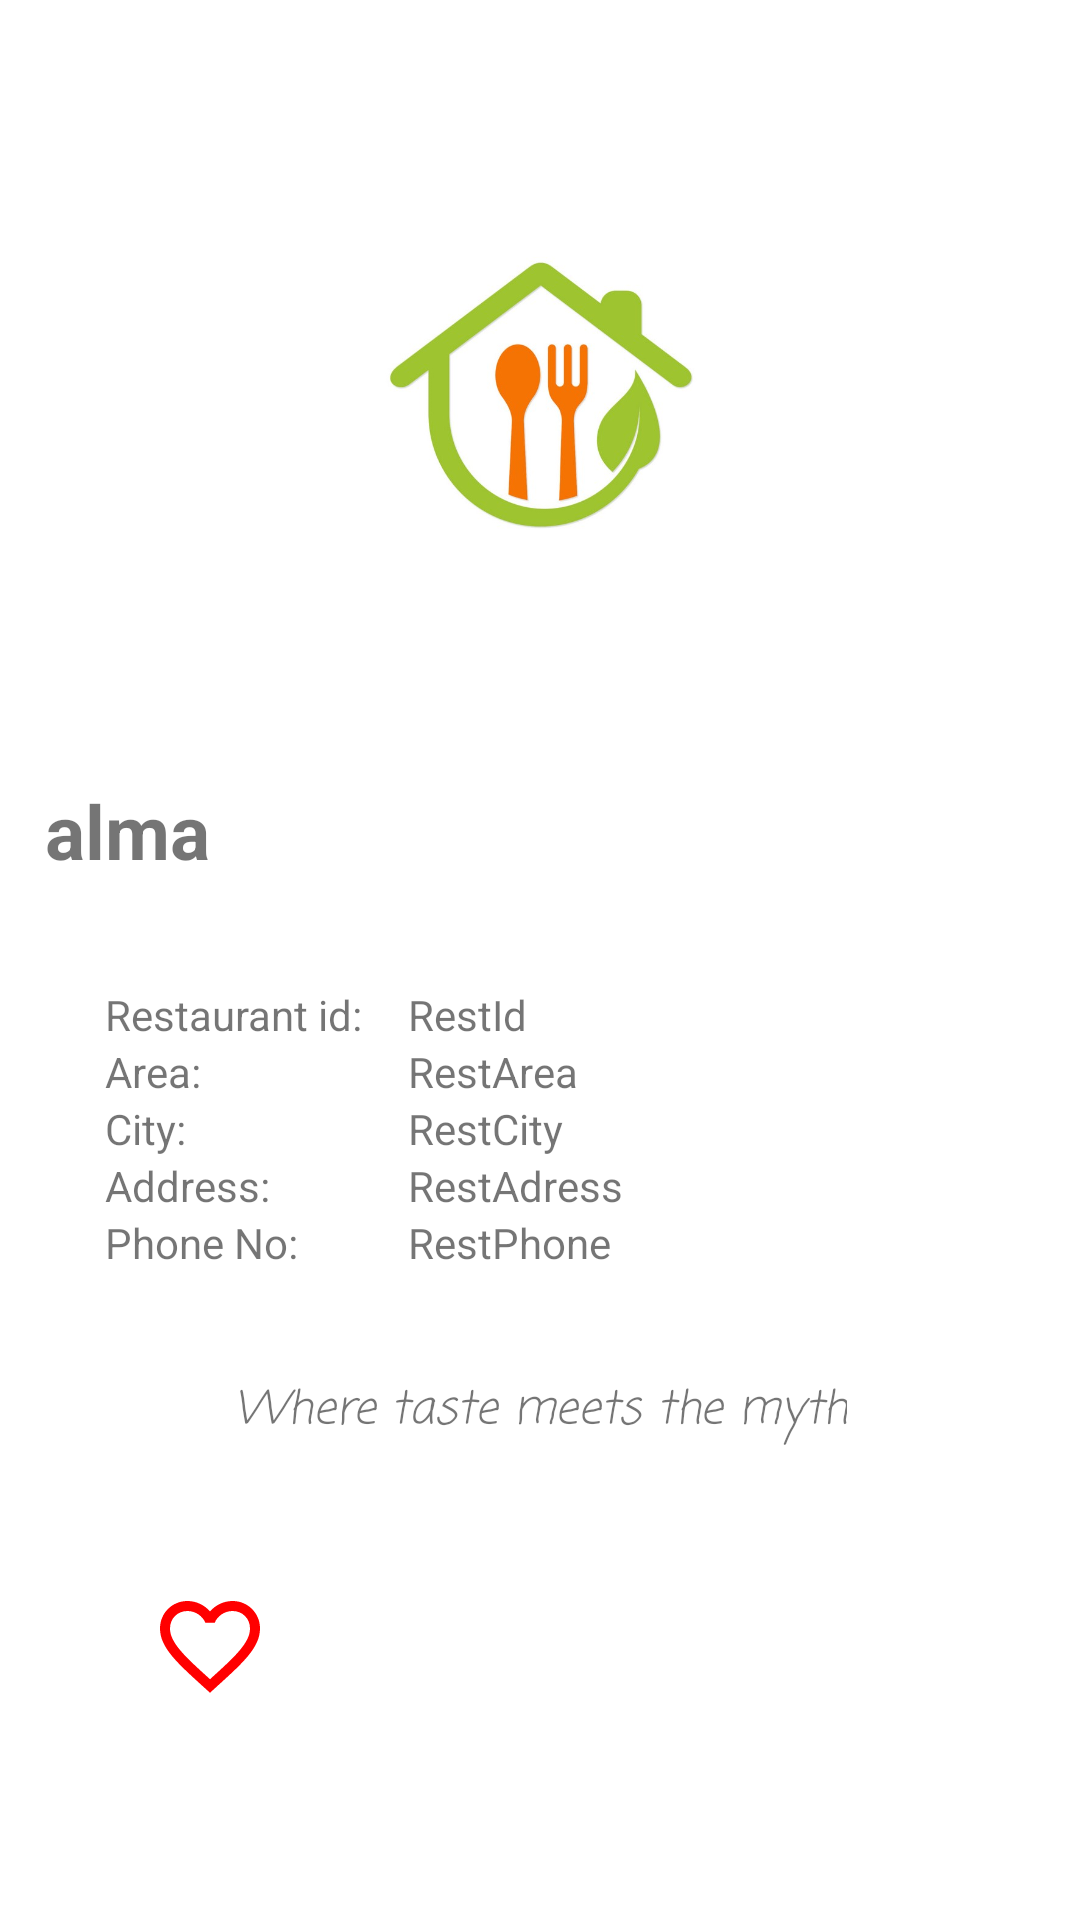

Point at icon controls on the screen. Image size 1080×1920, points as point (x, y).
favorite: point (210, 1647)
food: point (541, 395)
